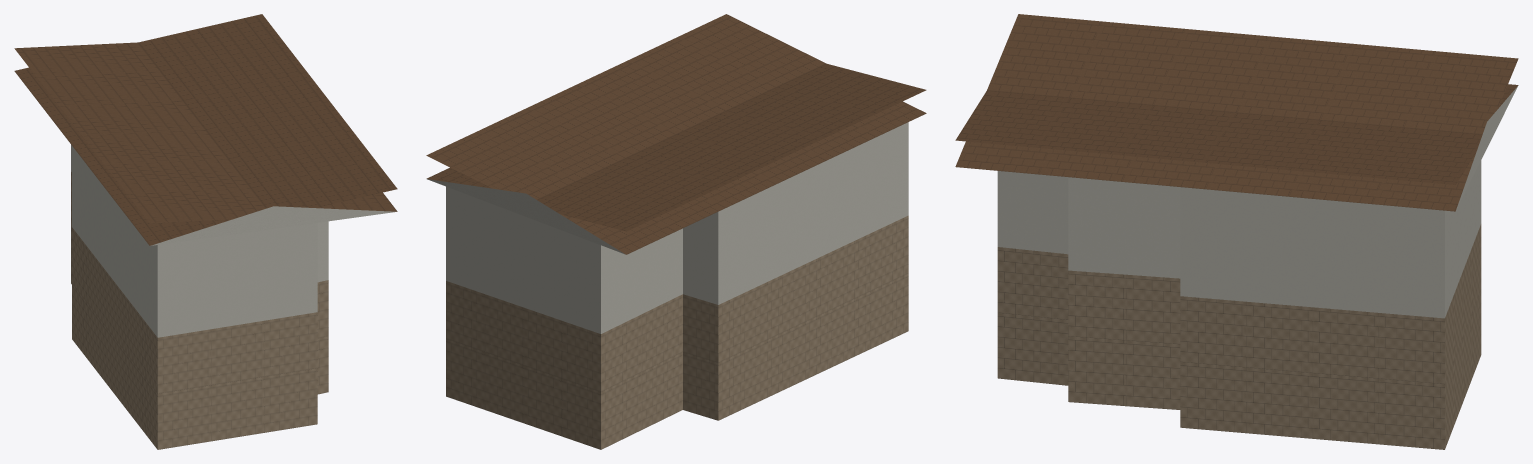
Rendered from bld_c31_43_253.gltf.
3 views of the same model, side by side, from view 1: azimuth 30°, elevation 25°; view 2: azimuth 150°, elevation 25°; view 3: azimuth 270°, elevation 25° (orthographic). The views are drawn at different scales.
Parts seen in each view (by area): view 1: bld_c31_43_253; view 2: bld_c31_43_253; view 3: bld_c31_43_253.
Boxes of the visible parts, x1,y1,x2,y2 form: bld_c31_43_253: (14, 14, 397, 449); bld_c31_43_253: (426, 14, 926, 449); bld_c31_43_253: (955, 14, 1518, 449).
Size of the model in its own units: 13.82 by 10.3 by 19.23.
4 materials, 4 textured.
